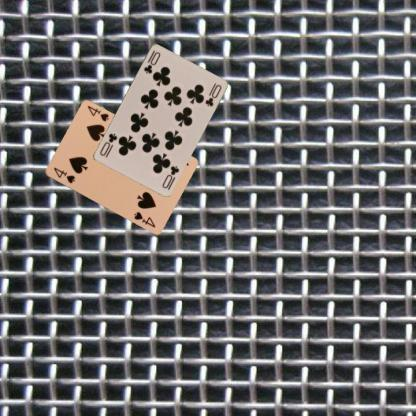10c: (160, 163, 180, 191), (141, 49, 162, 75)
4s: (51, 165, 76, 185)
